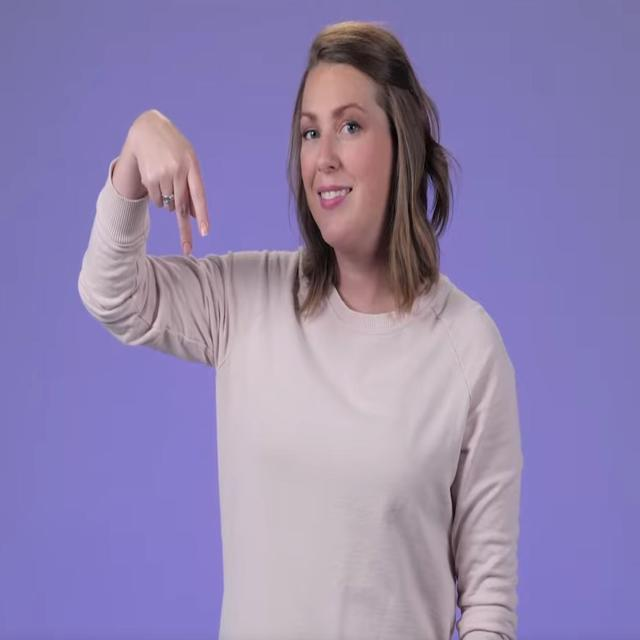P: (121, 105, 210, 258)
